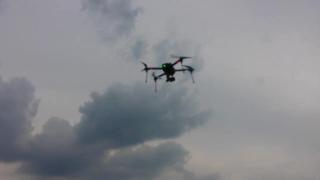UAV: (140, 54, 195, 92)
